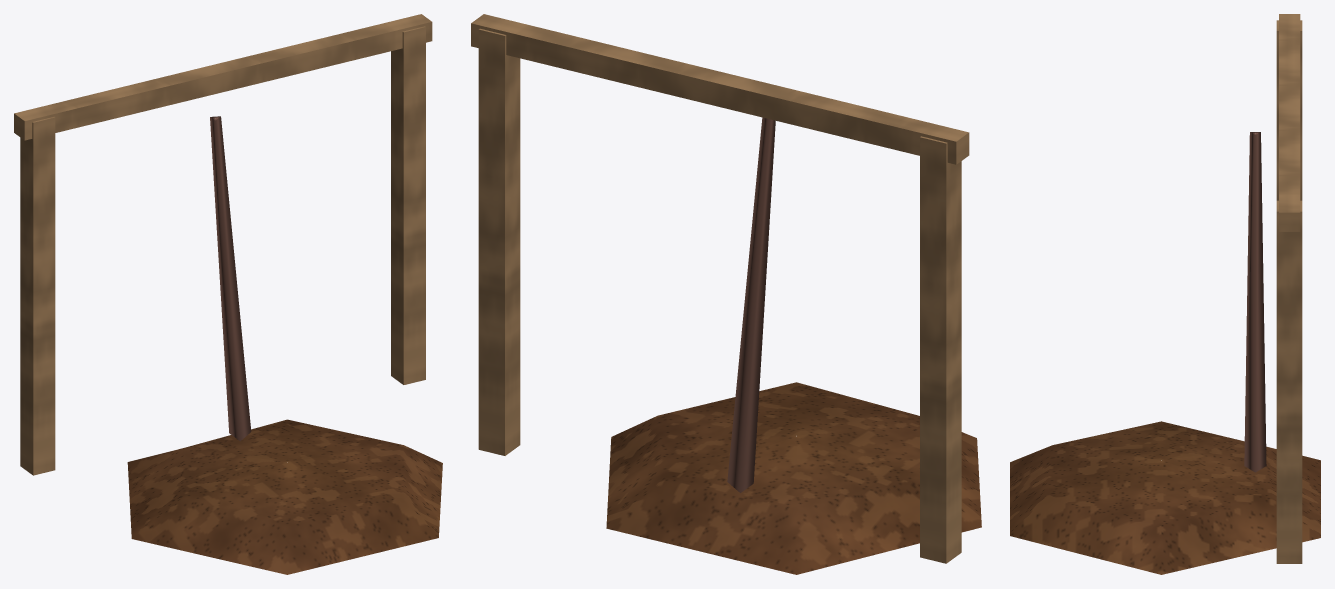
File: plant-grape-2-far.glb
The picture shows the model from 3 angles, left to right: view 1: azimuth 30°, elevation 25°; view 2: azimuth 150°, elevation 25°; view 3: azimuth 270°, elevation 25°; orthographic projection. The views are drawn at different scales.
Parts seen in each view (by area): view 1: plant-grape-2-far; view 2: plant-grape-2-far; view 3: plant-grape-2-far.
Boxes of the visible parts, x1,y1,x2,y2 form: plant-grape-2-far: (14, 14, 442, 574); plant-grape-2-far: (471, 14, 981, 574); plant-grape-2-far: (1010, 14, 1320, 574).
Size of the model in its own units: 1.1 by 0.9968 by 0.7275.
Materials: 3 (2 with a texture image).
